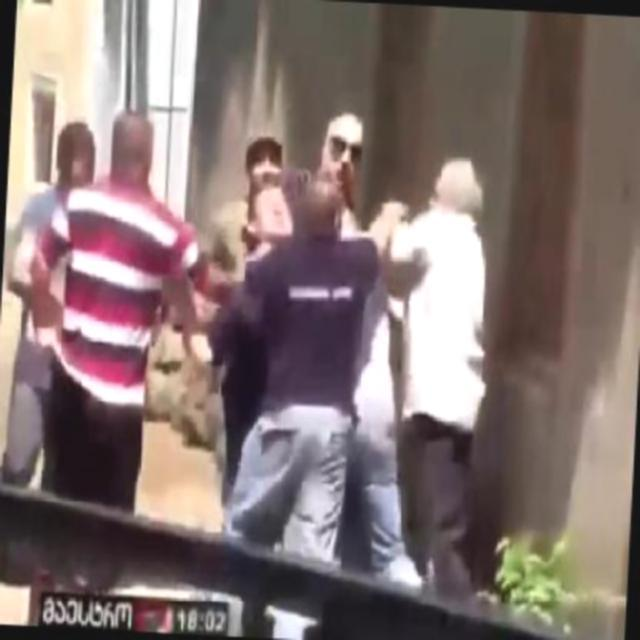fight: (208, 144, 492, 407)
